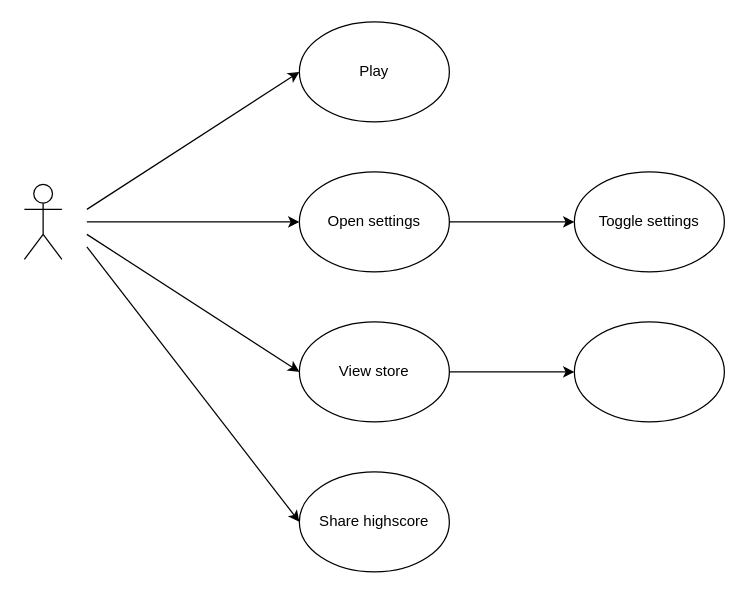
The diagram is 746 pixels wide and 594 high, and some of its shapes have lost their labels. Here are the shapes that lost their labels. From the top down, the centre of each, then its label:
At (42,221): "Player".
At (648,371): "Purchase items".
